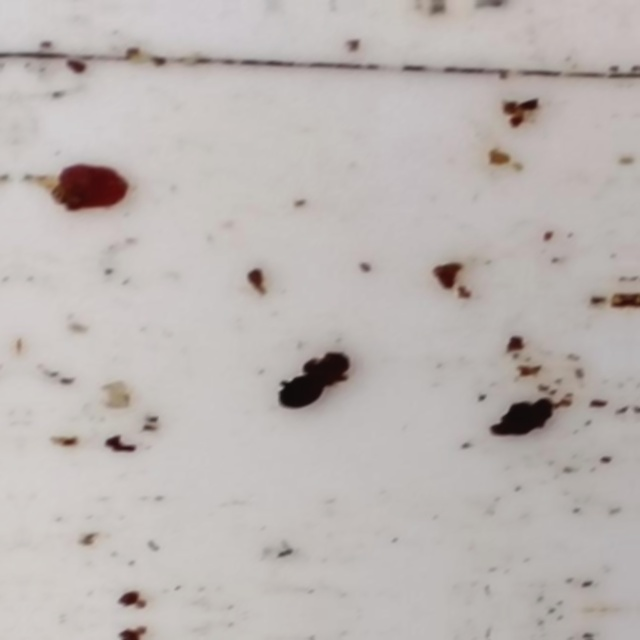varroa: (299, 353, 352, 388), (275, 378, 324, 411)
